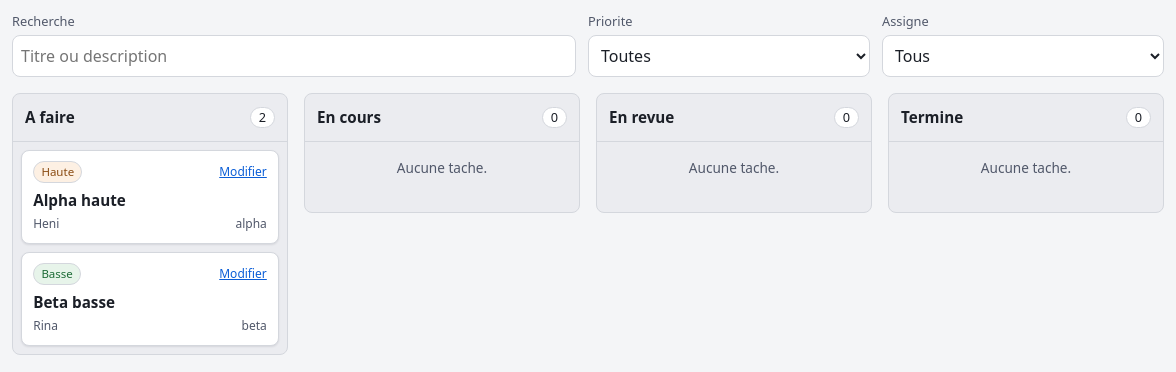
Scenario: FilterBar › filtre les cartes affichees par priorite
expect the heading "Alpha haute" is shown: met, box top-left (33, 190), bottom-right (126, 210)
expect the heading "Beta basse" is shown: met, box top-left (33, 292), bottom-right (115, 312)
Select "Haute" in the dropdown labelled "Priorite": {"x": 729, "y": 56} top-left (588, 35), bottom-right (870, 77)
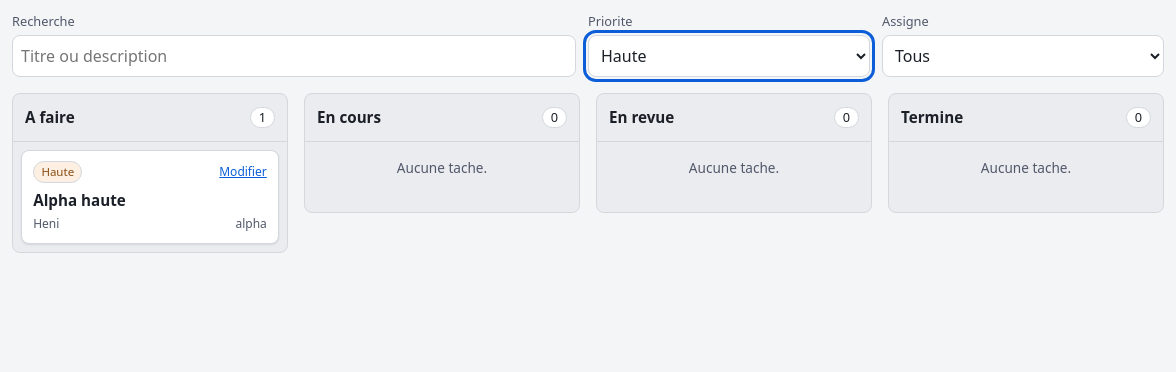
expect the heading "Alpha haute" is shown: met, box top-left (33, 190), bottom-right (126, 210)
expect the heading "Beta basse" is gone: met
